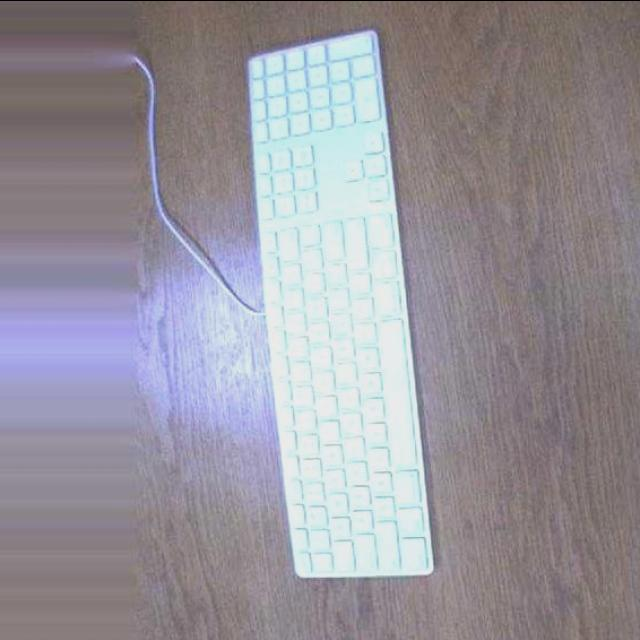keyboard: (242, 25, 436, 583)
